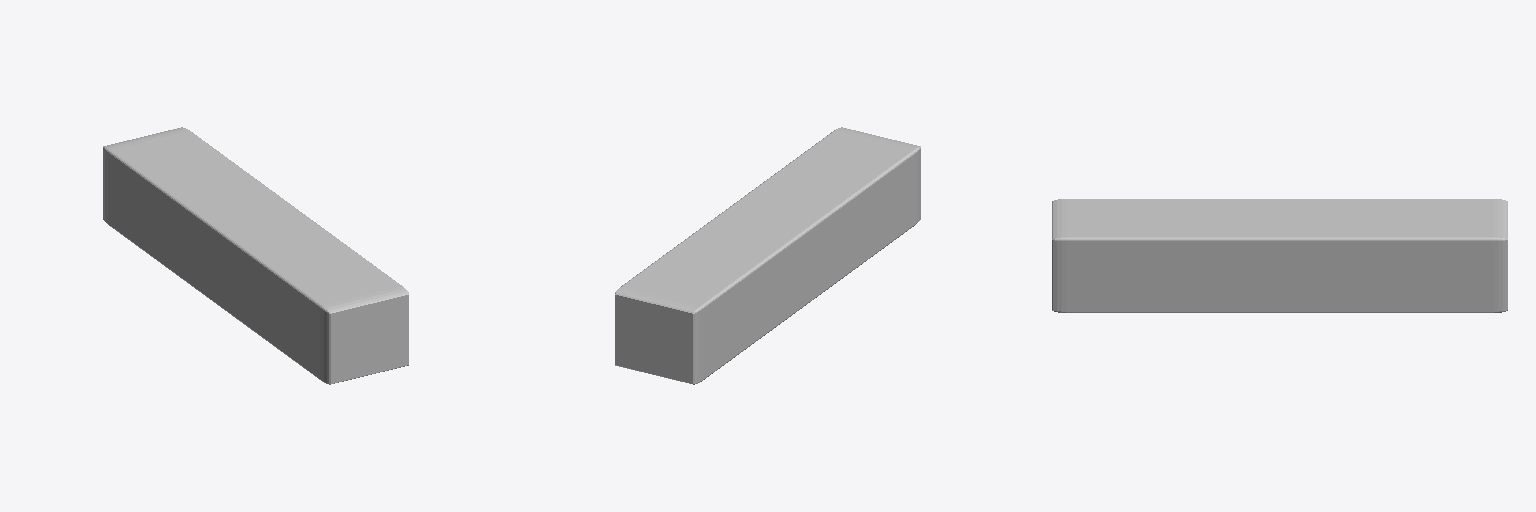
Rendered from tvTable.obj.
3 renders of one model, left to right at view 1: azimuth 30°, elevation 25°; view 2: azimuth 150°, elevation 25°; view 3: azimuth 270°, elevation 25°, orthographic.
Visible parts, largest first — view 1: default; view 2: default; view 3: default.
Boxes of the visible parts, x1,y1,x2,y2 form: default: [103, 127, 408, 384]; default: [615, 127, 920, 384]; default: [1052, 199, 1507, 312].
Bounding box in the file's own units: 5.06 × 4.37 × 23.88.